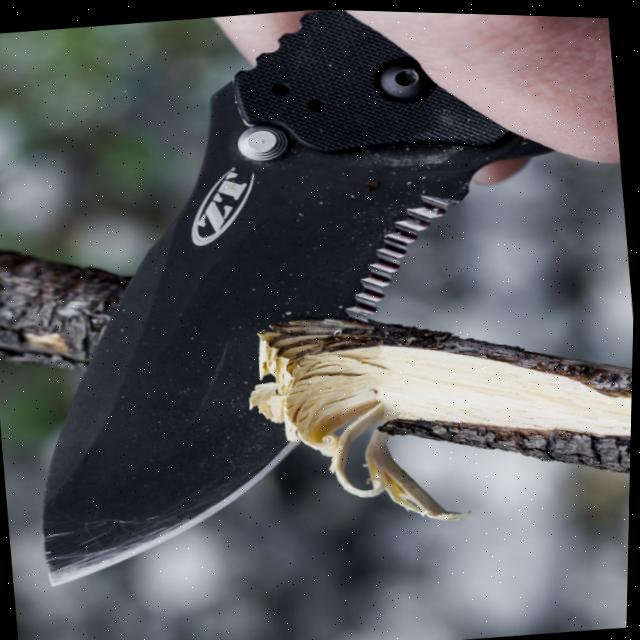knife: (0, 0, 606, 604)
